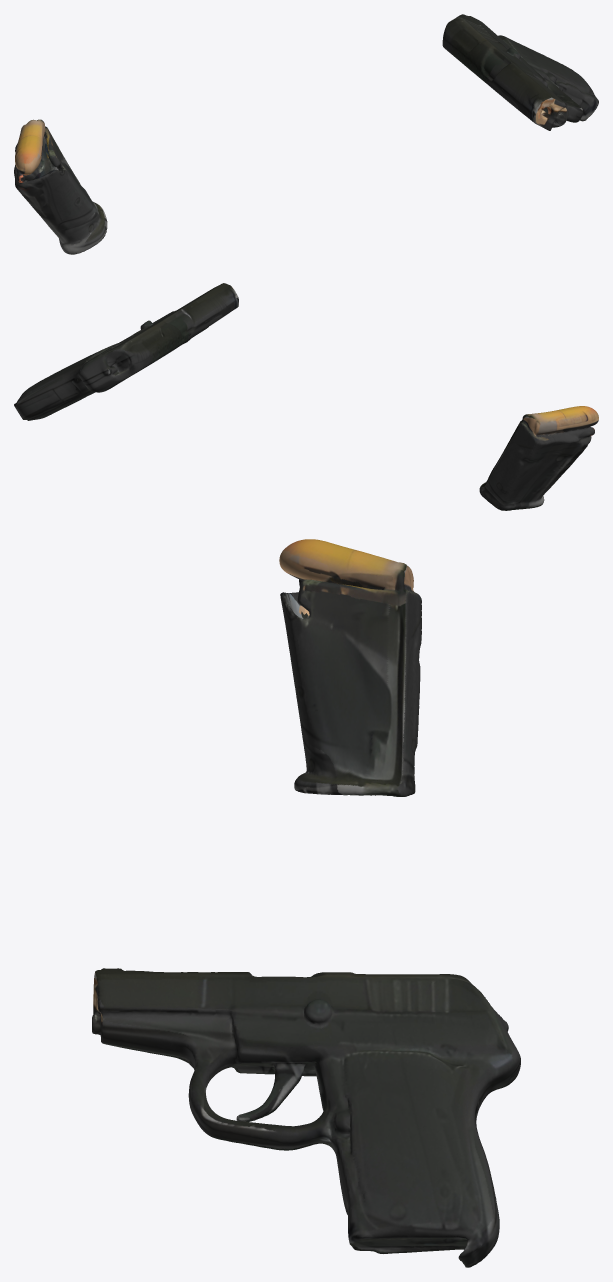
3 renders of one model, top to bottom at view 1: azimuth 30°, elevation 25°; view 2: azimuth 150°, elevation 25°; view 3: azimuth 270°, elevation 25°, orthographic. The views are drawn at different scales.
Parts seen in each view (by area): view 1: tripo_node_33e2adf6-cbde-41a5-a991-c24c2e430d4a; view 2: tripo_node_33e2adf6-cbde-41a5-a991-c24c2e430d4a; view 3: tripo_node_33e2adf6-cbde-41a5-a991-c24c2e430d4a.
Part boxes in pixels (box(x1,y1,x2,y2)): tripo_node_33e2adf6-cbde-41a5-a991-c24c2e430d4a: box(14, 14, 598, 254); tripo_node_33e2adf6-cbde-41a5-a991-c24c2e430d4a: box(14, 283, 598, 510); tripo_node_33e2adf6-cbde-41a5-a991-c24c2e430d4a: box(92, 539, 520, 1267).
Bounding box in the file's own units: 1 × 0.1977 × 0.3436.
Materials: 1 (1 with a texture image).
